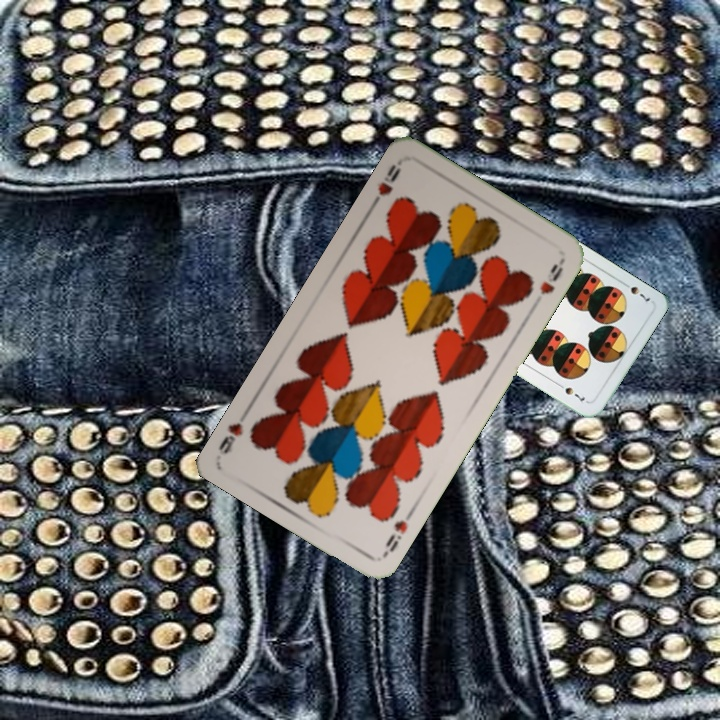H9: (366, 160, 404, 211), (381, 505, 417, 555)
S7: (618, 277, 653, 304)
